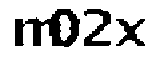0: (51, 7, 81, 51)
2: (82, 9, 112, 50)
m: (9, 18, 58, 53)
x: (114, 13, 146, 49)
